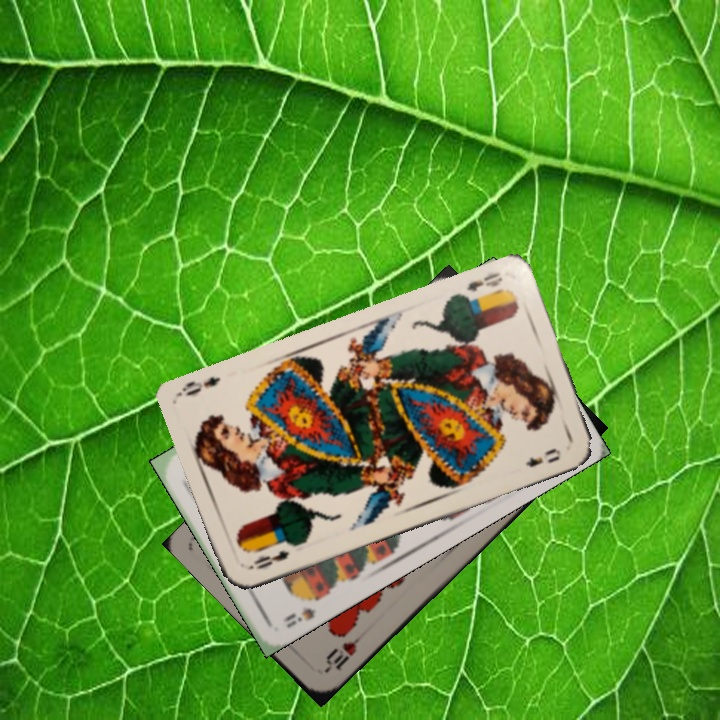EO: (244, 546, 292, 573), (462, 268, 505, 294)
H10: (320, 628, 367, 675)
S9: (280, 589, 328, 631)
